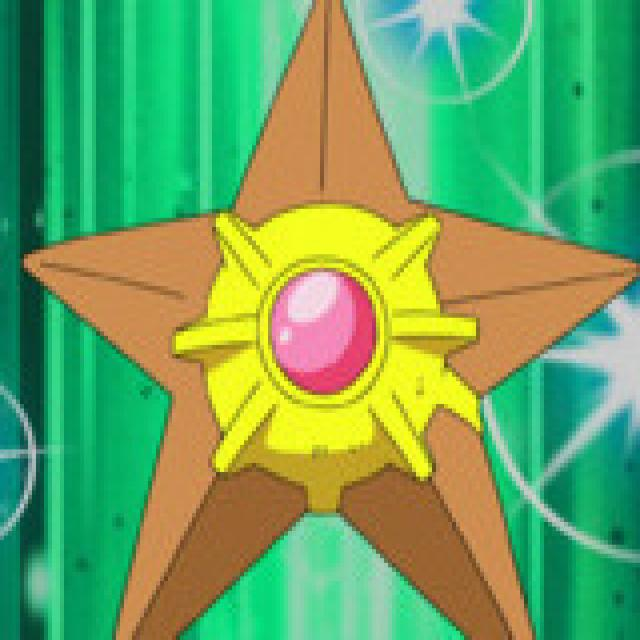Staryu: (20, 5, 622, 636)
